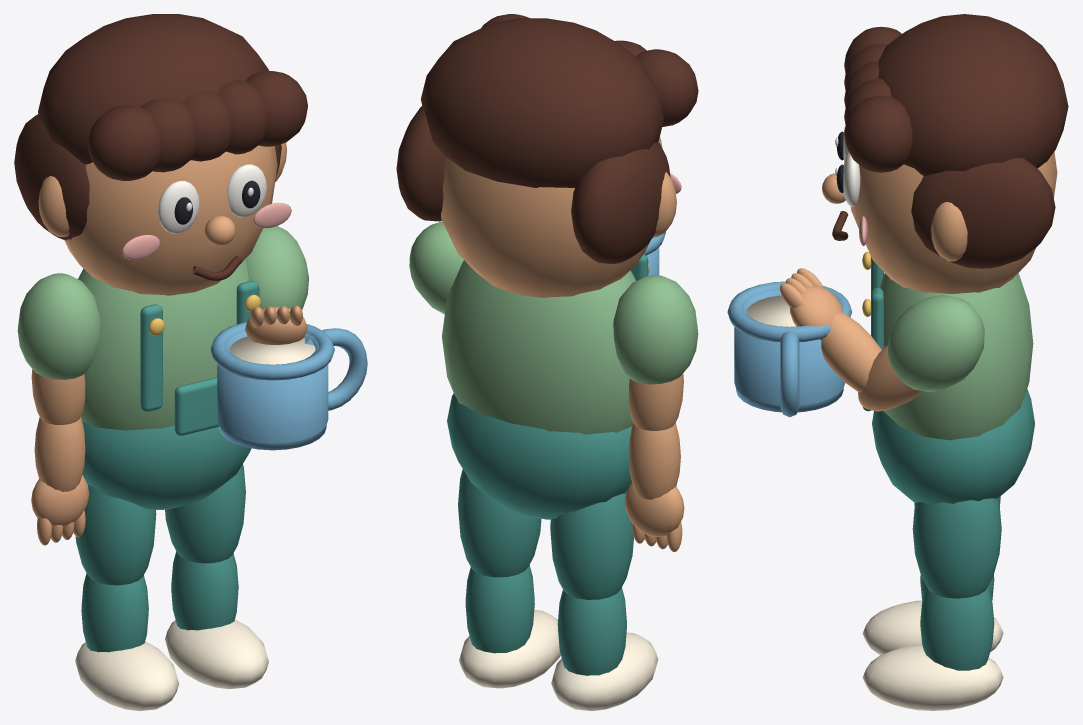
File: daddy-drink.glb
3 renders of one model, left to right at view 1: azimuth 30°, elevation 25°; view 2: azimuth 150°, elevation 25°; view 3: azimuth 270°, elevation 25°, orthographic. The views are drawn at different scales.
Visible parts, largest first — view 1: hair cap, clay head, soft shirt, overalls, hollow cup wall, shirt sleeve, trouser leg, little shoe, little shoe.001, bob hair, trouser leg.001, fringe (+24 smaller); view 2: hair cap, soft shirt, clay head, overalls, bob hair, shirt sleeve, trouser leg, trouser leg.001, lower leg, lower leg.001, little shoe, little shoe.001 (+7 smaller); view 3: hair cap, soft shirt, bob hair.001, overalls, clay head, trouser leg.001, shirt sleeve.001, little shoe.001, hollow cup wall, lower leg.001, fringe.004, forearm.001 (+14 smaller).
Boxes of the visible parts, box(x1,y1,x2,y2) form: hair cap: box(38, 14, 268, 164); clay head: box(64, 145, 277, 295); soft shirt: box(78, 259, 248, 430); overalls: box(82, 421, 251, 509); hollow cup wall: box(217, 331, 328, 443); shirt sleeve: box(17, 273, 100, 379); trouser leg: box(75, 485, 156, 585); little shoe: box(75, 641, 178, 710); little shoe.001: box(165, 619, 268, 688); bob hair: box(14, 114, 89, 240); trouser leg.001: box(165, 464, 245, 563); fringe: box(88, 105, 160, 180); hair cap: box(420, 18, 663, 187); soft shirt: box(442, 260, 635, 434); clay head: box(441, 137, 662, 297); overalls: box(447, 393, 631, 519); bob hair: box(571, 142, 670, 263); shirt sleeve: box(613, 275, 698, 384); trouser leg: box(550, 491, 633, 599); trouser leg.001: box(458, 469, 541, 577); lower leg: box(557, 587, 626, 675); lower leg.001: box(465, 565, 534, 653); little shoe: box(551, 632, 658, 710); little shoe.001: box(459, 610, 560, 688); hair cap: box(878, 14, 1068, 175); soft shirt: box(880, 273, 1033, 440); bob hair.001: box(911, 158, 1055, 268); overalls: box(872, 389, 1034, 503); clay head: box(848, 151, 1057, 293); trouser leg.001: box(912, 498, 1001, 598); shirt sleeve.001: box(888, 295, 984, 392); little shoe.001: box(862, 644, 1003, 710); hollow cup wall: box(734, 289, 844, 405); lower leg.001: box(920, 587, 994, 670); fringe.004: box(844, 95, 912, 172); forearm.001: box(821, 312, 881, 392).
Size of the model in its own units: 0.9387 by 2.14 by 1.01.
